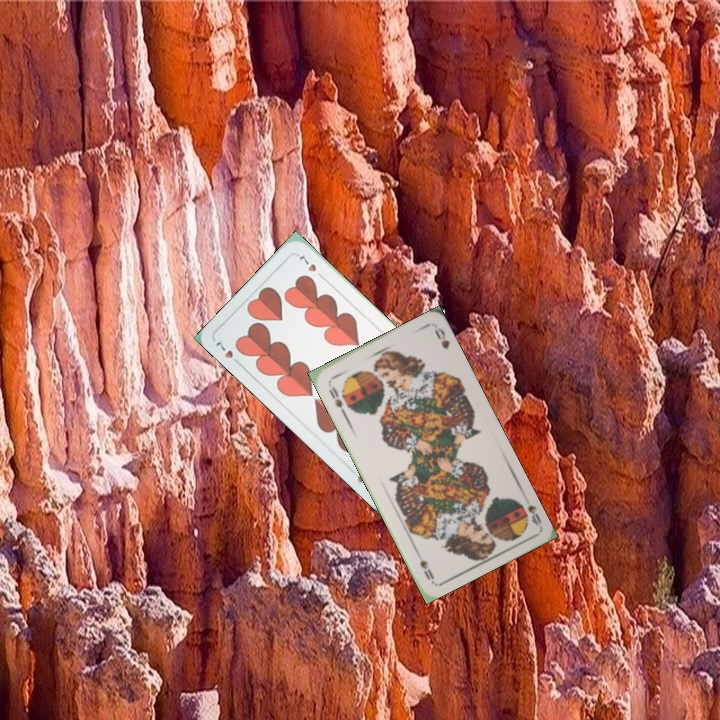H7: (211, 338, 244, 368)
SO: (512, 495, 544, 528), (324, 378, 348, 417)
